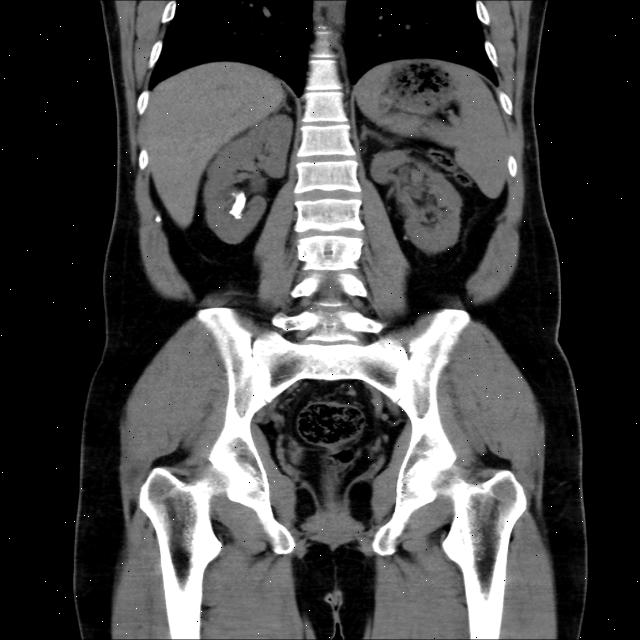kidneystone: (231, 192, 246, 219)
